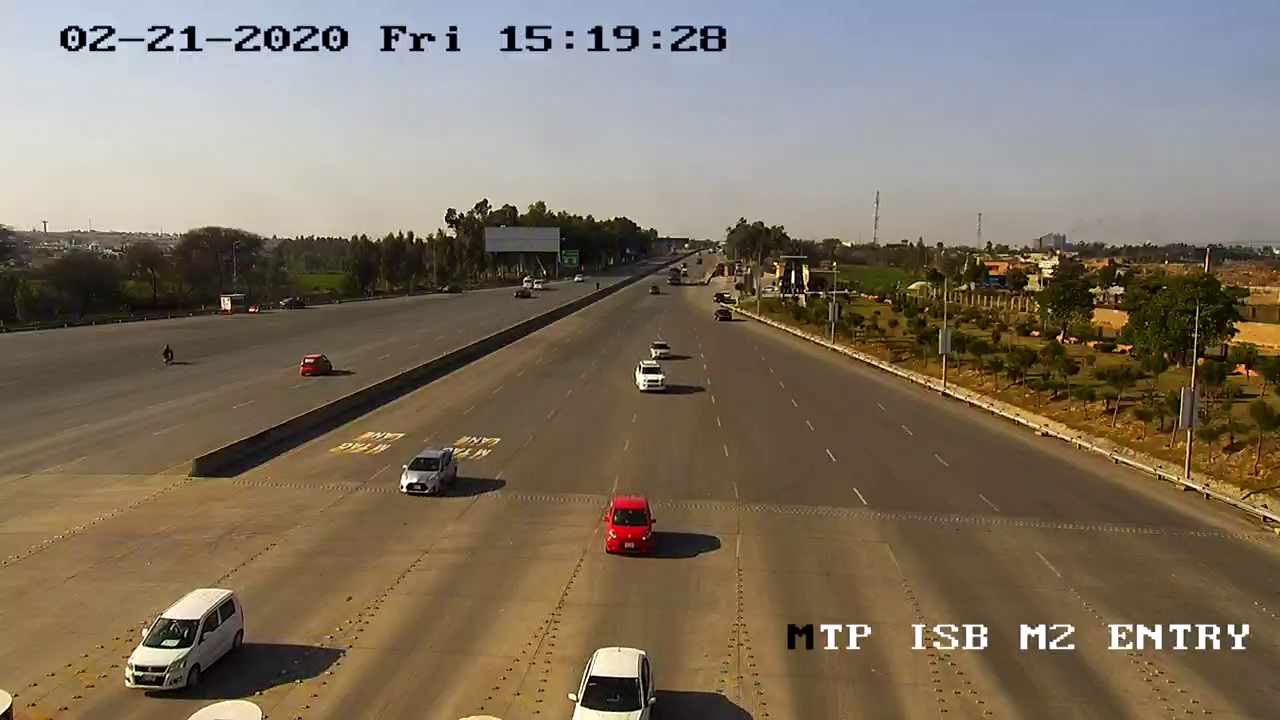f1: (114, 581, 250, 698), (597, 493, 667, 563), (391, 445, 466, 508)
